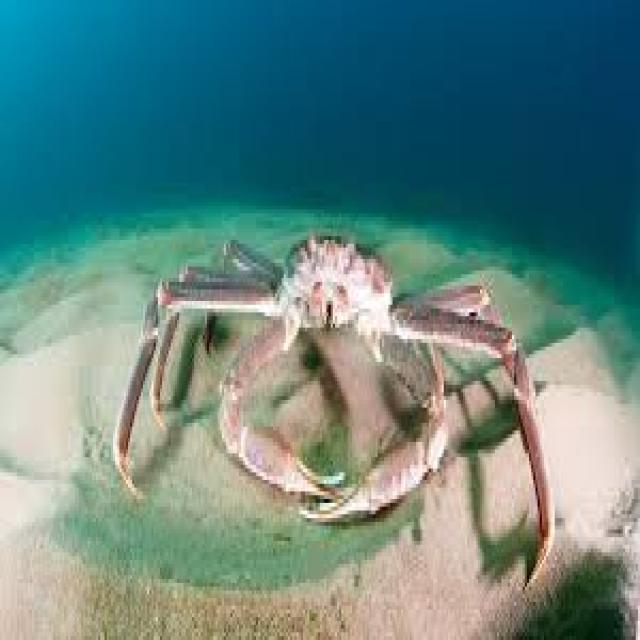crab: (191, 177, 417, 489)
